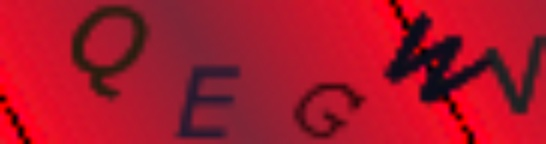E: (173, 60, 248, 141)
G: (291, 78, 367, 140)
Q: (64, 1, 153, 105)
V: (484, 32, 546, 120)
W: (380, 8, 494, 105)
